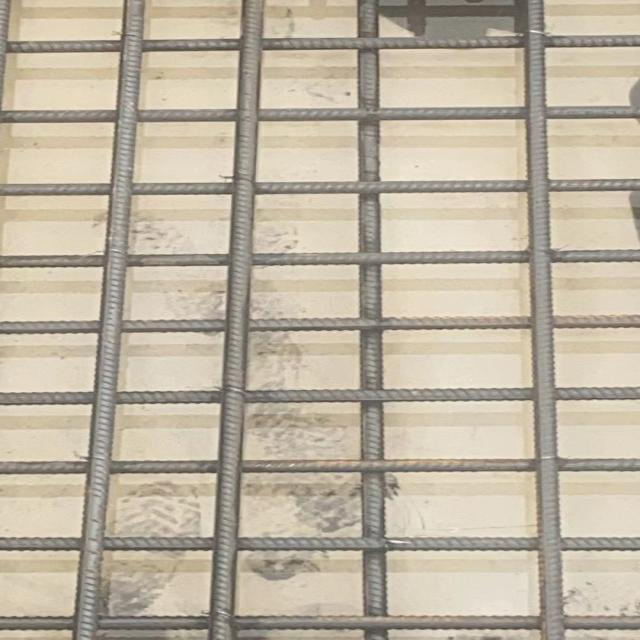ribbed bar: (68, 0, 145, 639), (208, 0, 261, 639), (520, 0, 566, 639), (359, 0, 388, 639), (0, 248, 639, 268), (0, 314, 639, 334), (0, 177, 639, 196), (0, 386, 639, 405), (0, 105, 639, 123), (0, 35, 639, 52), (0, 458, 639, 475), (0, 615, 639, 630), (0, 537, 639, 551)
